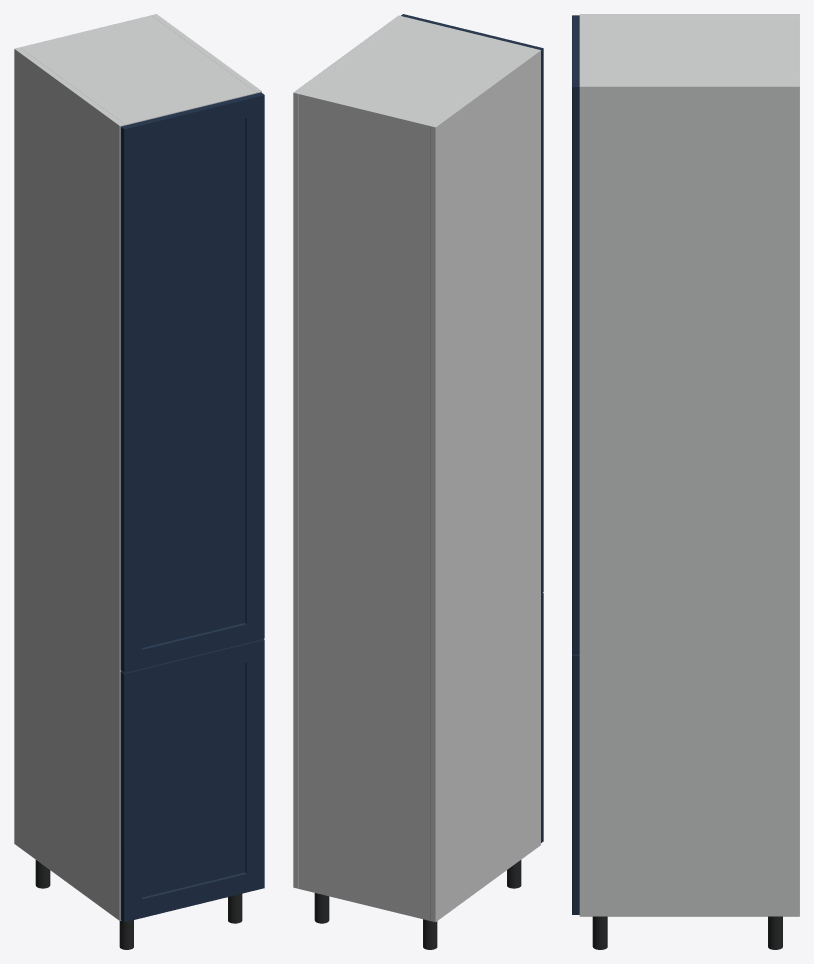
The model's file is oppein-ply-bss-pc1896.glb.
The picture shows the model from 3 angles, left to right: view 1: azimuth 30°, elevation 25°; view 2: azimuth 150°, elevation 25°; view 3: azimuth 270°, elevation 25°; orthographic projection. The views are drawn at different scales.
Visible parts, largest first — view 1: Cabinet side, Upper pantry door, Lower pantry door, Cabinet top, Cabinet side.001; view 2: Cabinet back, Cabinet side, Cabinet top, Cabinet side.001, Upper pantry door, Lower pantry door, Cabinet bottom; view 3: Cabinet side.001, Cabinet top, Upper pantry door, Lower pantry door, Cabinet side, Adjustable foot.003, Adjustable foot.002.
Boxes of the visible parts, x1,y1,x2,y2 form: Cabinet side: [14, 47, 125, 920]; Upper pantry door: [120, 92, 264, 672]; Lower pantry door: [120, 639, 264, 922]; Cabinet top: [22, 17, 256, 125]; Cabinet side.001: [151, 14, 261, 93]; Cabinet back: [299, 92, 431, 920]; Cabinet side: [430, 49, 540, 922]; Cabinet top: [299, 17, 534, 131]; Cabinet side.001: [293, 15, 403, 888]; Upper pantry door: [401, 14, 543, 593]; Lower pantry door: [541, 592, 543, 842]; Cabinet bottom: [299, 884, 429, 920]; Cabinet side.001: [579, 83, 799, 916]; Cabinet top: [579, 17, 795, 83]; Upper pantry door: [572, 15, 579, 654]; Lower pantry door: [572, 654, 579, 914]; Cabinet side: [579, 14, 799, 16]; Adjustable foot.003: [592, 916, 607, 949]; Adjustable foot.002: [768, 916, 782, 949].
Bounding box in the file's own units: 0.4572 × 2.55 × 0.6064.
